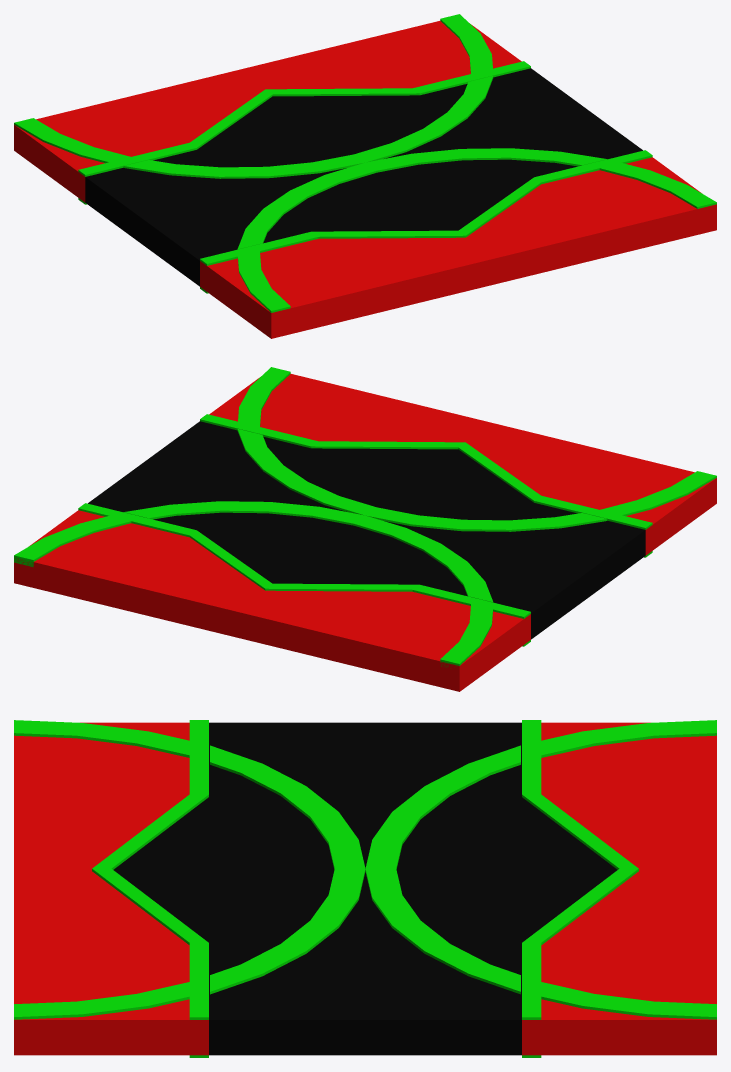
File: SM_floor_b.fbx
3 views of the same model, one above another, from view 1: azimuth 30°, elevation 25°; view 2: azimuth 150°, elevation 25°; view 3: azimuth 270°, elevation 25° (orthographic). The views are drawn at different scales.
Visible parts, largest first — view 1: SM_floor_b, ring; view 2: SM_floor_b, ring; view 3: SM_floor_b, ring.
Boxes of the visible parts, x1,y1,x2,y2 form: SM_floor_b: (14,21,716,338); ring: (14,14,716,312); SM_floor_b: (14,374,716,691); ring: (14,367,716,666); SM_floor_b: (14,720,716,1057); ring: (14,720,716,1019).
Bounding box in the file's own units: 720 × 46.03 × 720.
